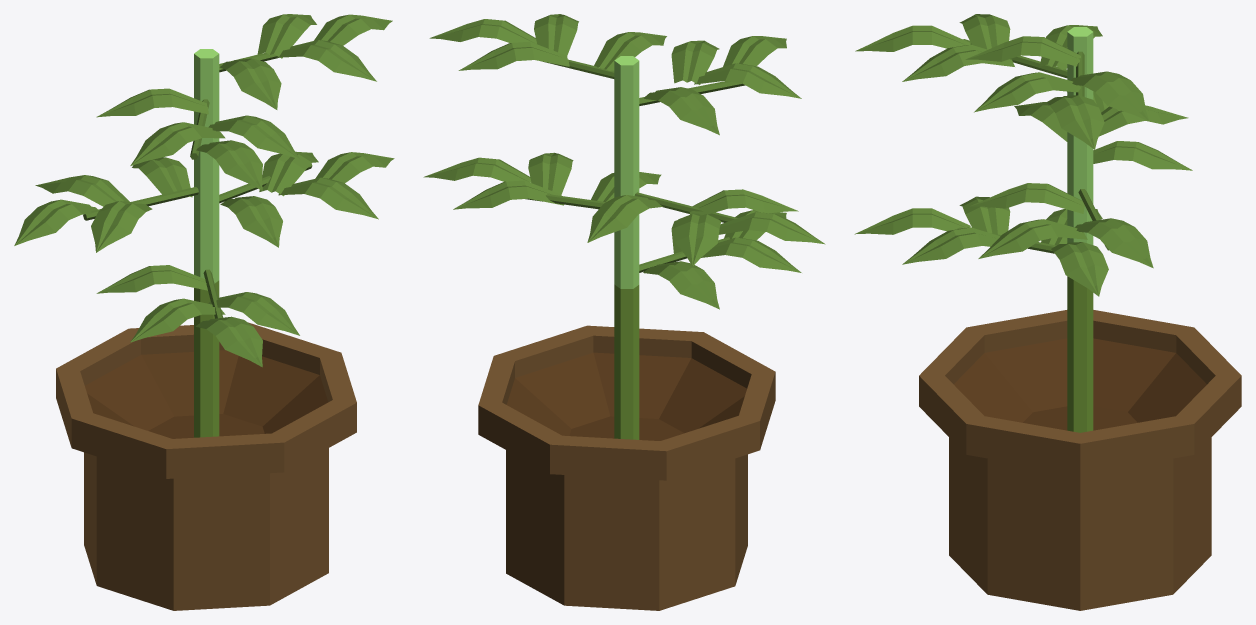
Rendered from Herb.fbx.
3 renders of one model, left to right at view 1: azimuth 30°, elevation 25°; view 2: azimuth 150°, elevation 25°; view 3: azimuth 270°, elevation 25°, orthographic. The views are drawn at different scales.
Visible parts, largest first — view 1: Herb; view 2: Herb; view 3: Herb.
Boxes of the visible parts, left/top/right/bottom form: Herb: left=14, top=14, right=394, bottom=610; Herb: left=423, top=14, right=825, bottom=610; Herb: left=854, top=14, right=1241, bottom=610.
Size of the model in its own units: 77.55 by 95.42 by 63.7.
